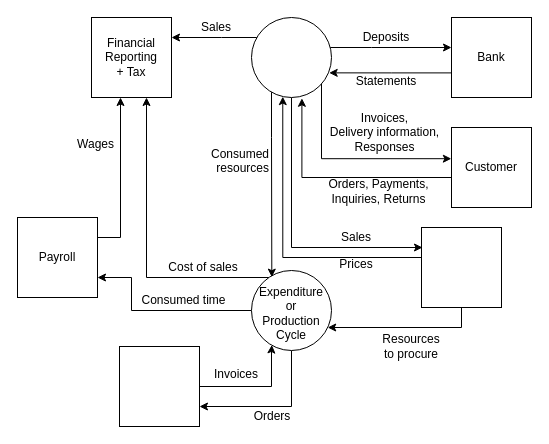
Image size: 549x444. Some labels were removed from this diagram. The centre of each missing label's shape, as x and y in pixels:
"Marketing" goes at point 461,267.
"Revenue Cycle" goes at point 291,57.
"Vendor" goes at point 159,386.
